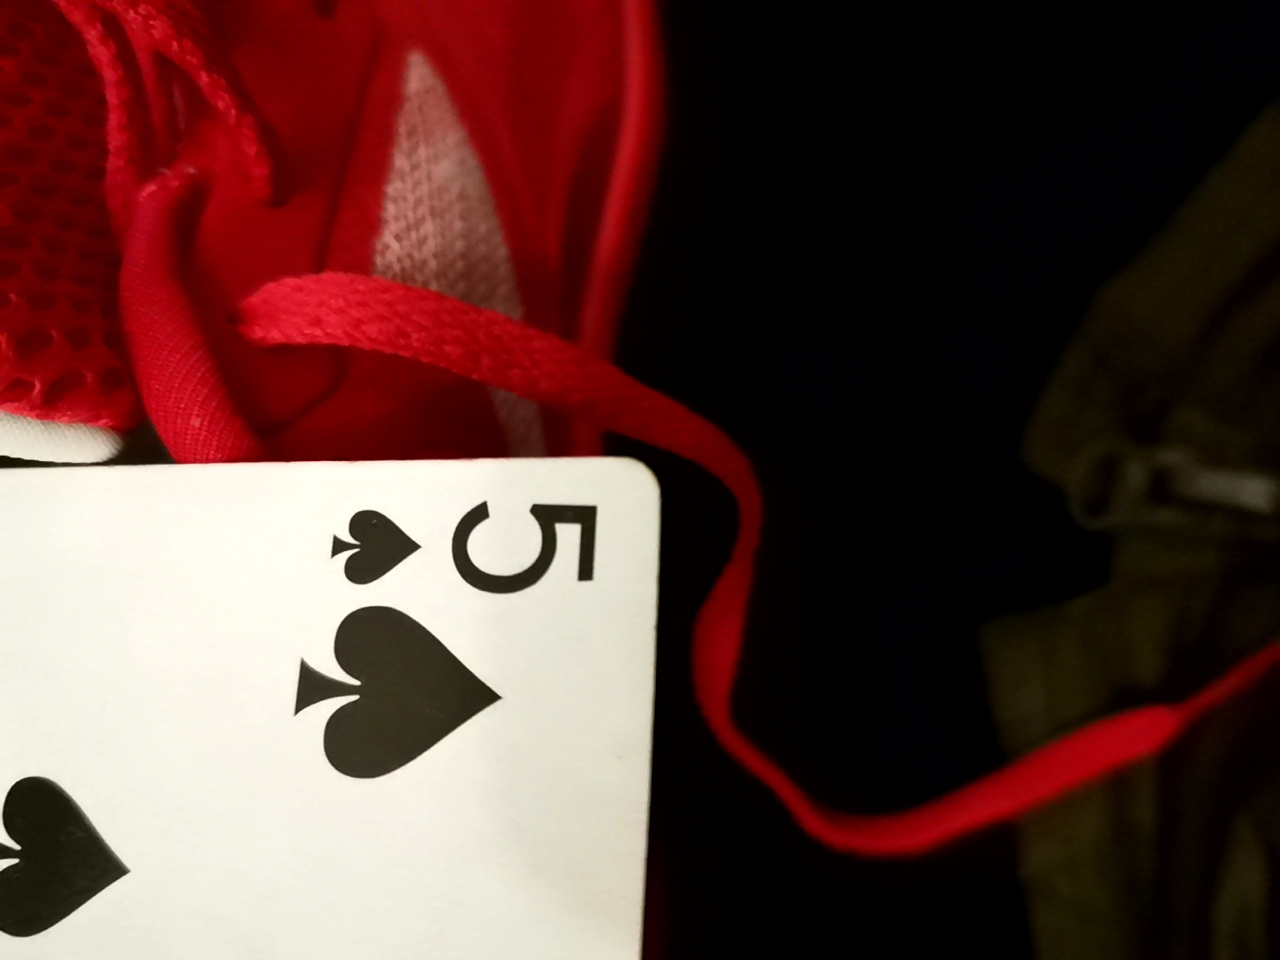ht 5: (3, 429, 689, 955)
